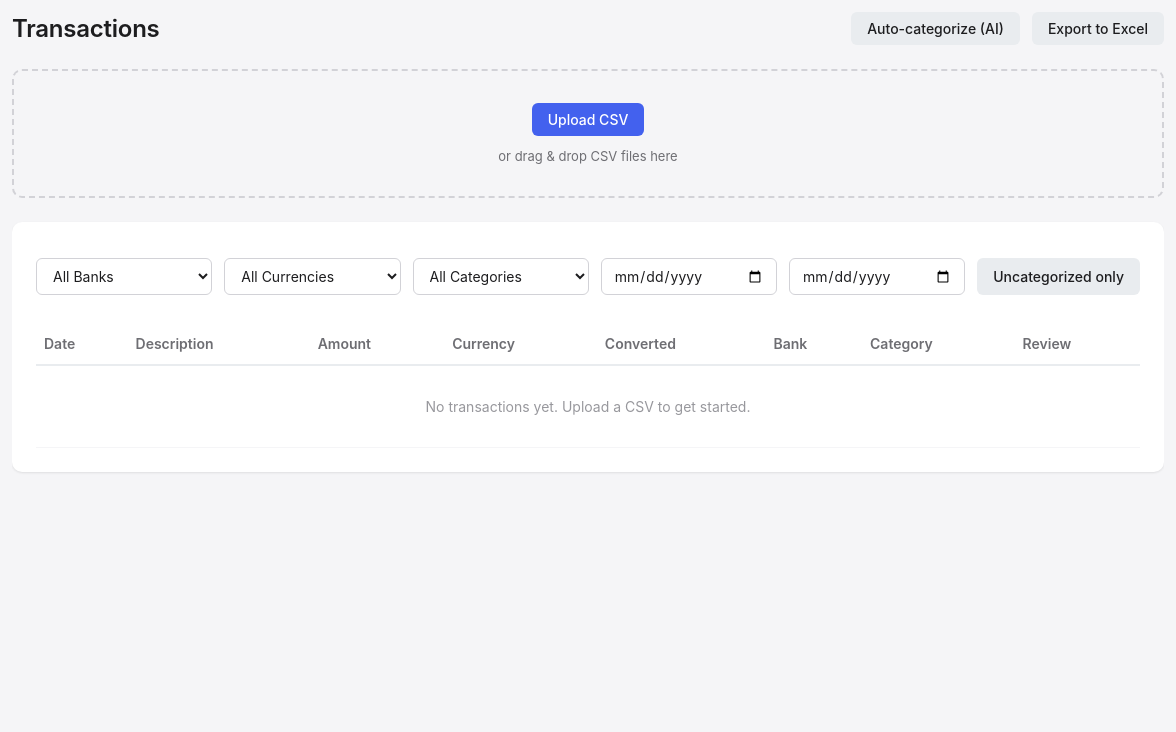
Test: TransactionsPage › surfaces the no-API-key error from auto-categorize
Click the button "Auto-categorize (AI)": (936, 28) [851,12,1020,45]
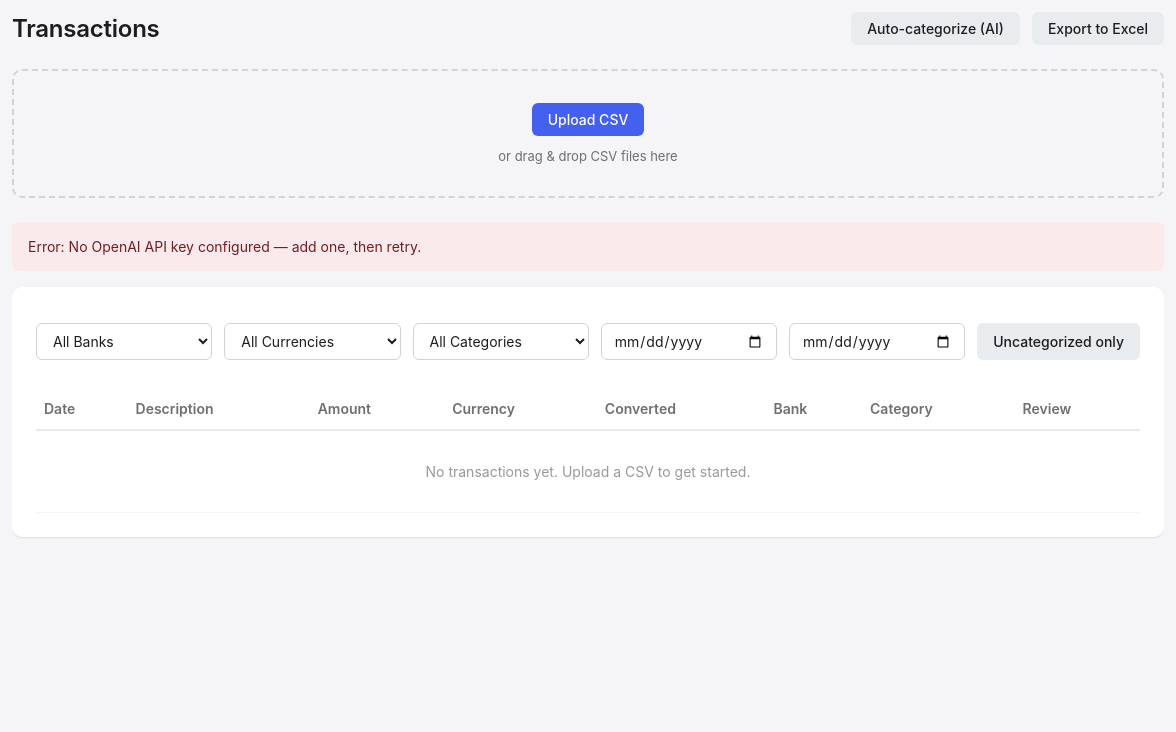
Expected: the text "Error: No OpenAI API key configured — add one, then retry." is shown, [28,238,421,255]
